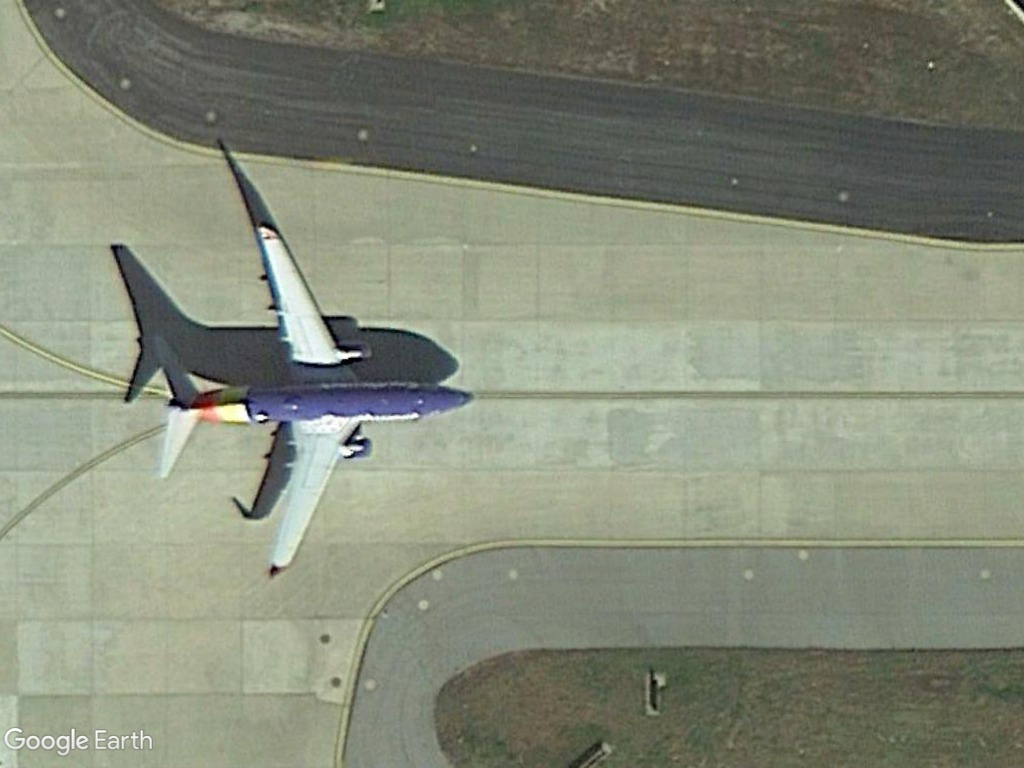airliner: (140, 214, 477, 577)
